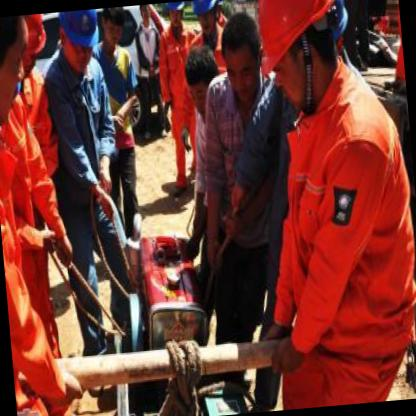head: (218, 5, 268, 110), (0, 14, 41, 139), (182, 40, 225, 122), (100, 7, 130, 48), (138, 4, 157, 29)
helmet: (248, 0, 352, 113), (0, 13, 51, 93), (60, 9, 98, 65), (192, 0, 226, 34), (164, 2, 186, 34)
